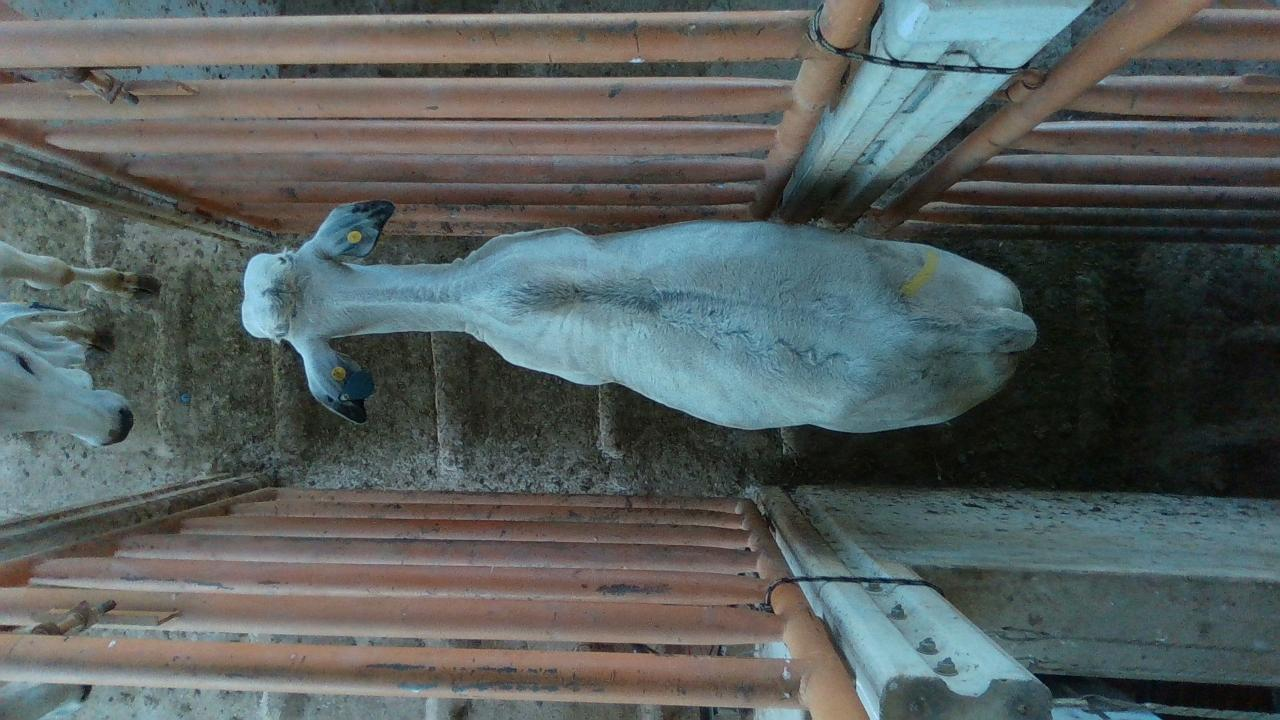cattle: (239, 197, 1038, 435)
